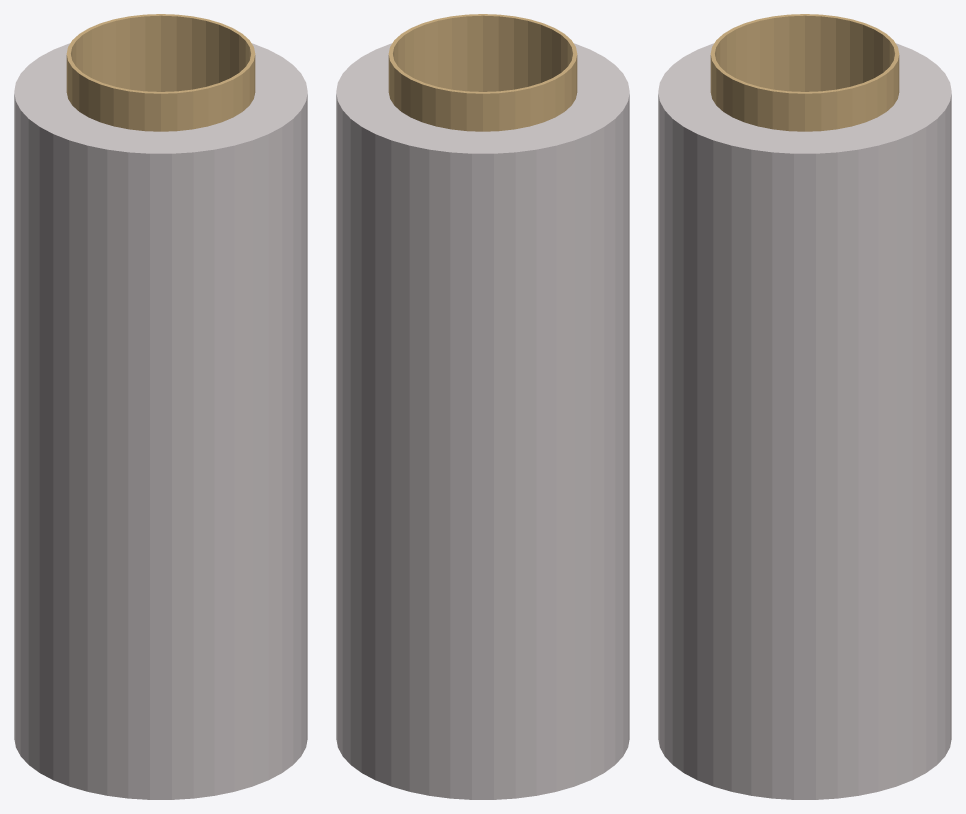
The model's file is paper_towel.dae.
The picture shows the model from 3 angles, left to right: view 1: azimuth 30°, elevation 25°; view 2: azimuth 150°, elevation 25°; view 3: azimuth 270°, elevation 25°; orthographic projection.
Parts seen in each view (by area): view 1: paper towel; view 2: paper towel; view 3: paper towel.
Boxes of the visible parts, x1=… form: paper towel: x1=14, y1=14, x2=307, y2=799; paper towel: x1=336, y1=14, x2=629, y2=799; paper towel: x1=658, y1=14, x2=951, y2=799.
Size of the model in its own units: 0.0698 by 0.07 by 0.18.
